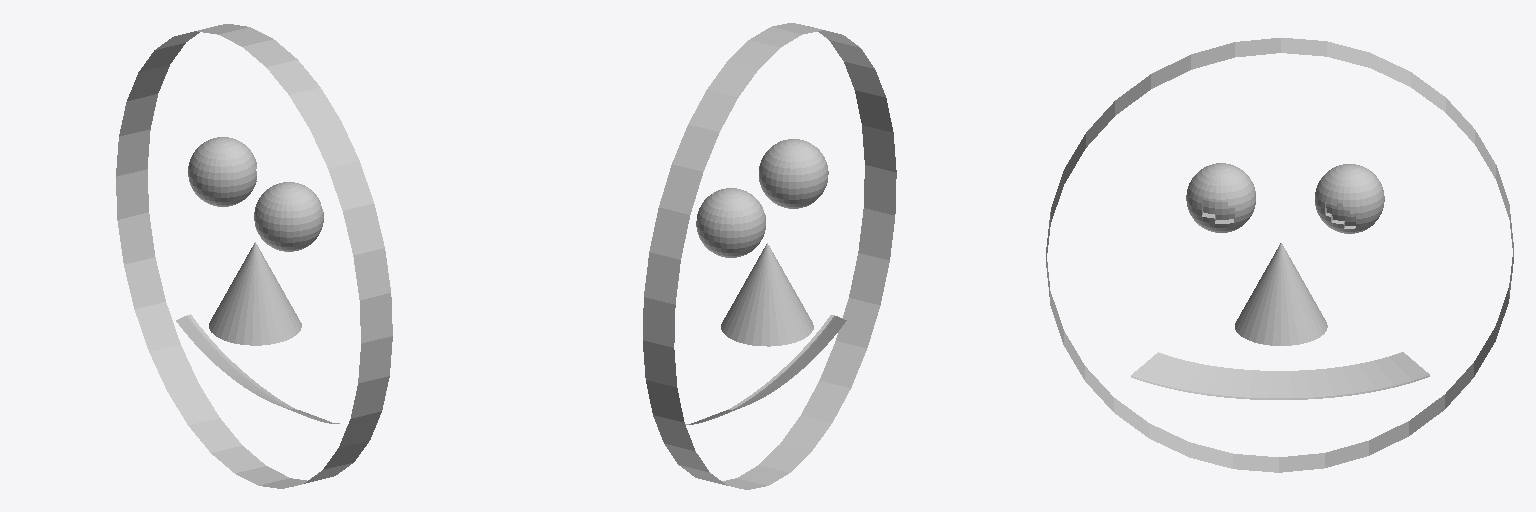
3 renders of one model, left to right at view 1: azimuth 30°, elevation 25°; view 2: azimuth 150°, elevation 25°; view 3: azimuth 270°, elevation 25°, orthographic.
Parts seen in each view (by area): view 1: Circle, Cone, Sphere, Sphere.001, SurfCurve; view 2: Circle, Cone, Sphere.001, Sphere, SurfCurve; view 3: Circle, SurfCurve, Cone, Sphere.001, Sphere.
Boxes of the visible parts, x1,y1,x2,y2 form: Circle: [116, 24, 392, 488]; Cone: [209, 242, 301, 345]; Sphere: [254, 182, 323, 251]; Sphere.001: [188, 137, 256, 206]; SurfCurve: [176, 314, 339, 423]; Circle: [643, 23, 896, 489]; Cone: [721, 243, 813, 346]; Sphere.001: [696, 188, 765, 257]; Sphere: [759, 139, 828, 208]; SurfCurve: [685, 315, 846, 424]; Circle: [1046, 38, 1513, 472]; SurfCurve: [1131, 352, 1429, 399]; Cone: [1235, 243, 1327, 345]; Sphere.001: [1315, 164, 1384, 233]; Sphere: [1186, 163, 1255, 232].
Bounding box in the file's own units: 398 × 2000 × 1999.